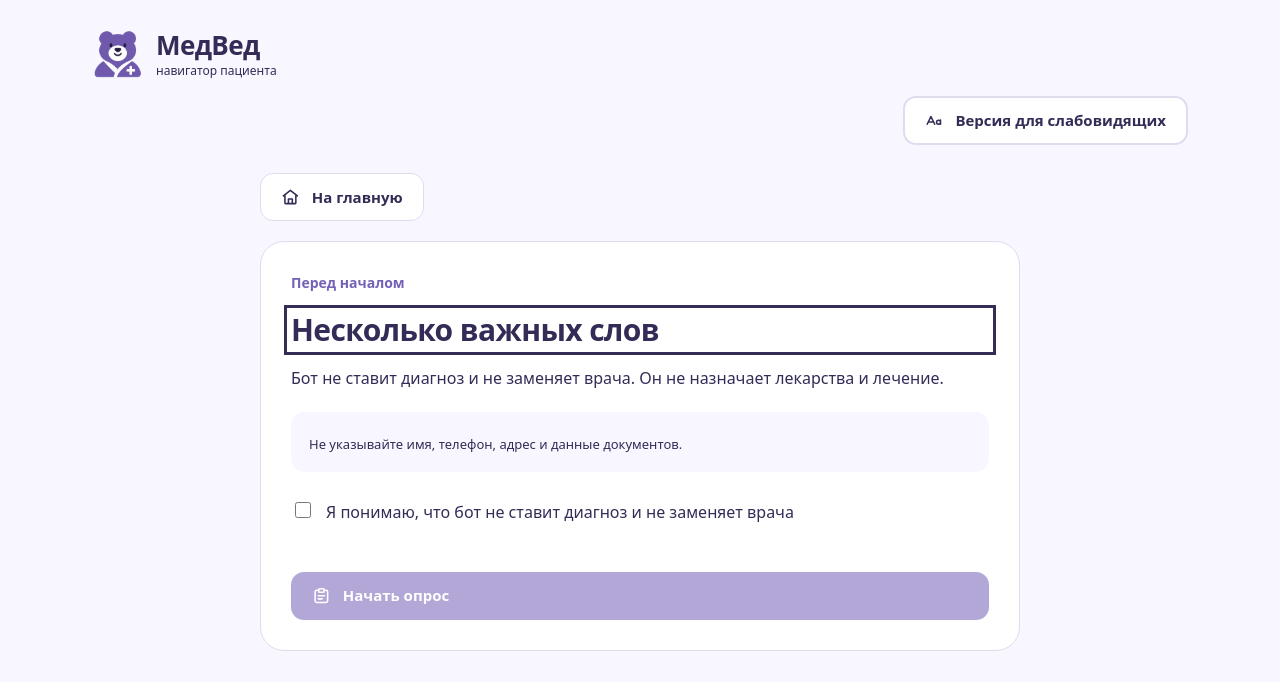
Test: questionnaire UI › does not create a session before consent
The width and height of the screenshot is (1280, 682).
Expected: the button "Начать опрос" is disabled, [291,572,989,620]
Click the checkbox labelled "Я понимаю, что бот не ставит диагноз и не заменяет врача".
click(303, 510)  # box [295,502,311,518]
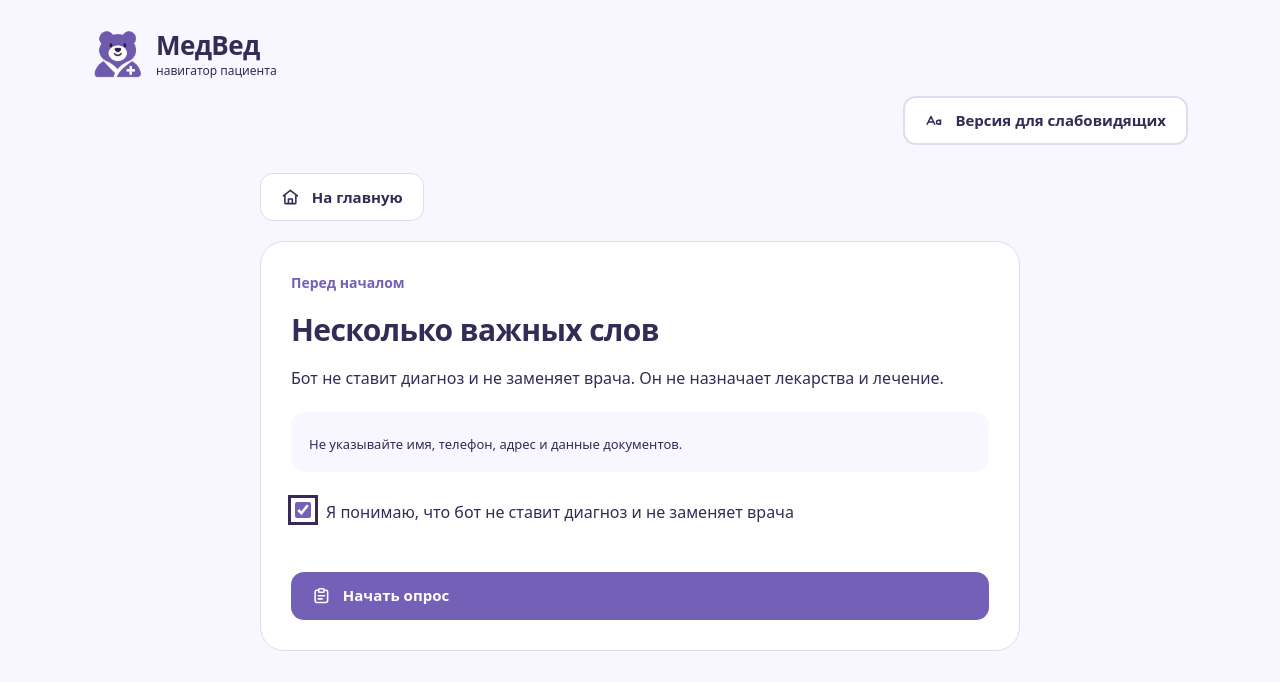
Click the button "Начать опрос".
click(396, 595)  # box [291,572,989,620]
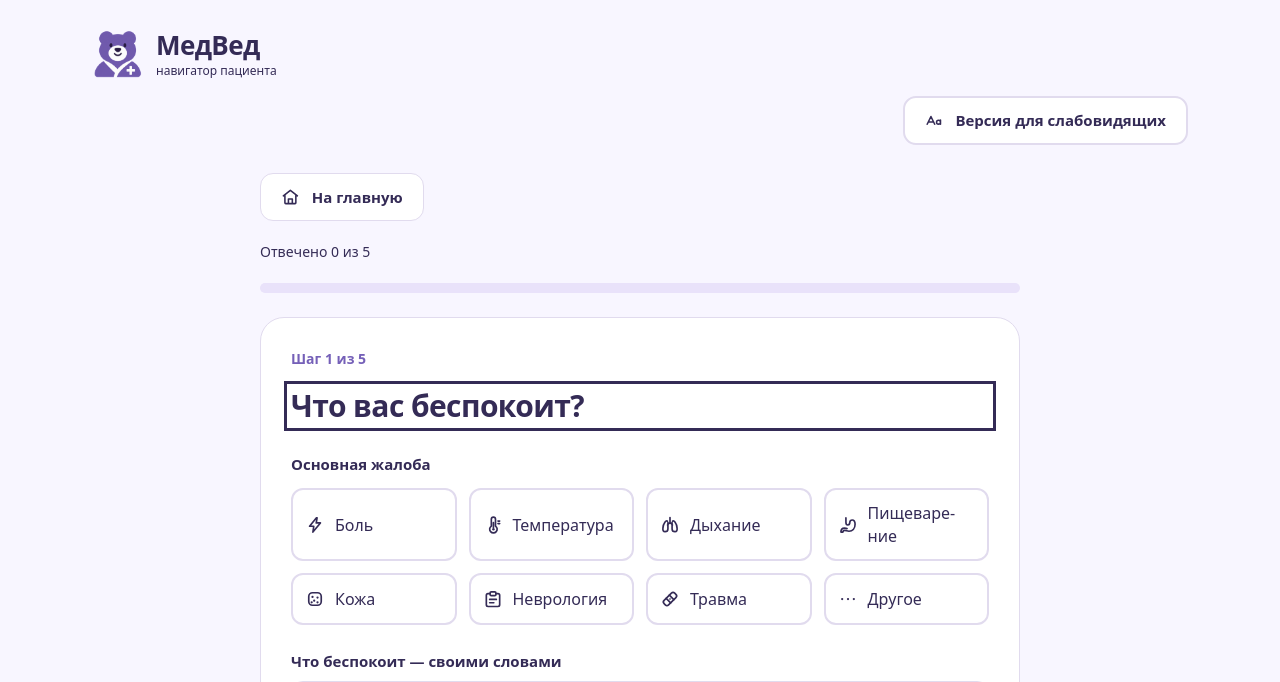
Expected: the heading "Что вас беспокоит?" is shown, [291,385,584,426]
